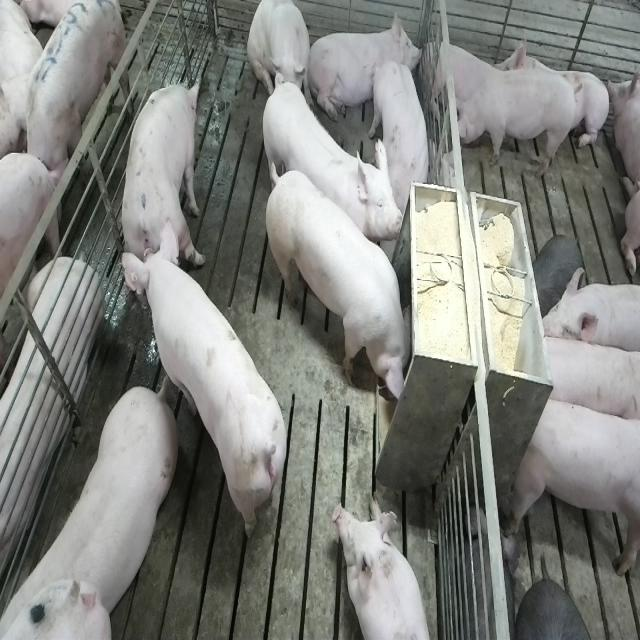Feeding: (269, 166, 421, 407)
Sitting: (247, 1, 311, 108)
Standing: (126, 238, 292, 550), (6, 377, 182, 632), (258, 77, 400, 255), (507, 391, 639, 582), (20, 0, 126, 203), (118, 74, 207, 276), (450, 67, 580, 177), (535, 331, 637, 426), (538, 266, 640, 354), (373, 60, 432, 212)
Sternal_lying: (334, 499, 436, 640), (496, 30, 608, 155), (311, 12, 422, 124), (427, 33, 500, 117)
